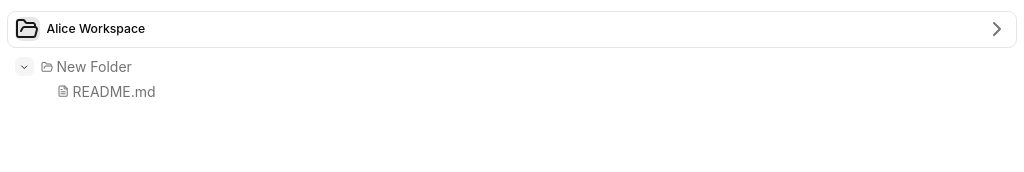
WorkspaceTree › switches from the file tree to the workspace list from the workspace card
What coordinates should you click on to do the following:
click the button "Alice Workspace"
I would click on:
 (96, 29)
Its box is [7,10,1017,48].
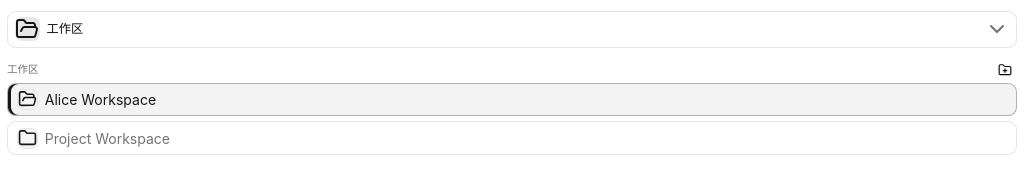
What coordinates should you click on to do the following:
click the button "Project Workspace"
I would click on:
 (107, 138)
Its box is [12,126,956,150].
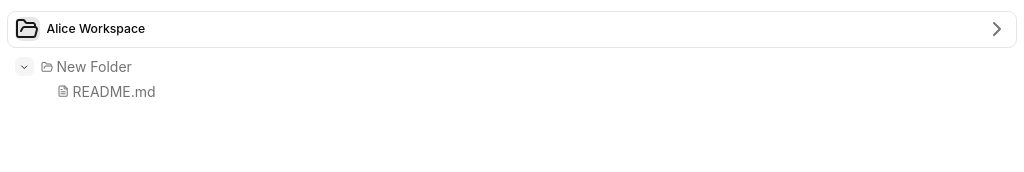
Expected: the button "Alice Workspace" is shown, [7,10,1017,48]
